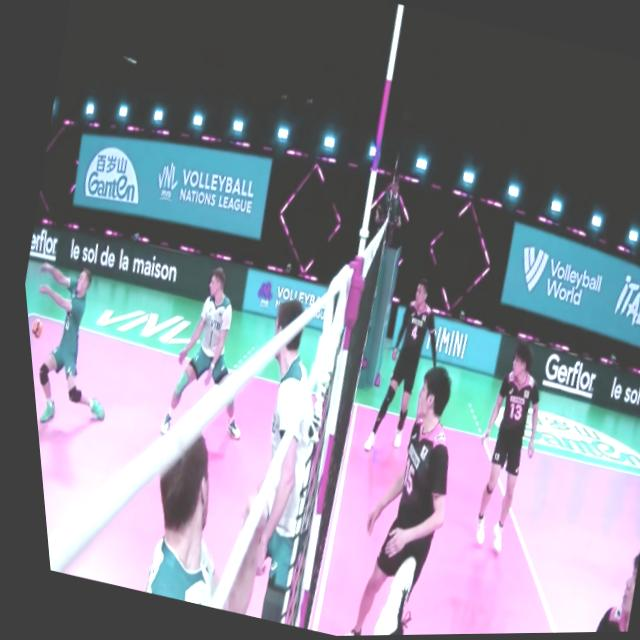player: (191, 297, 357, 627), (319, 354, 480, 637), (439, 339, 557, 562), (142, 258, 275, 449), (17, 248, 138, 434), (341, 273, 455, 465)
